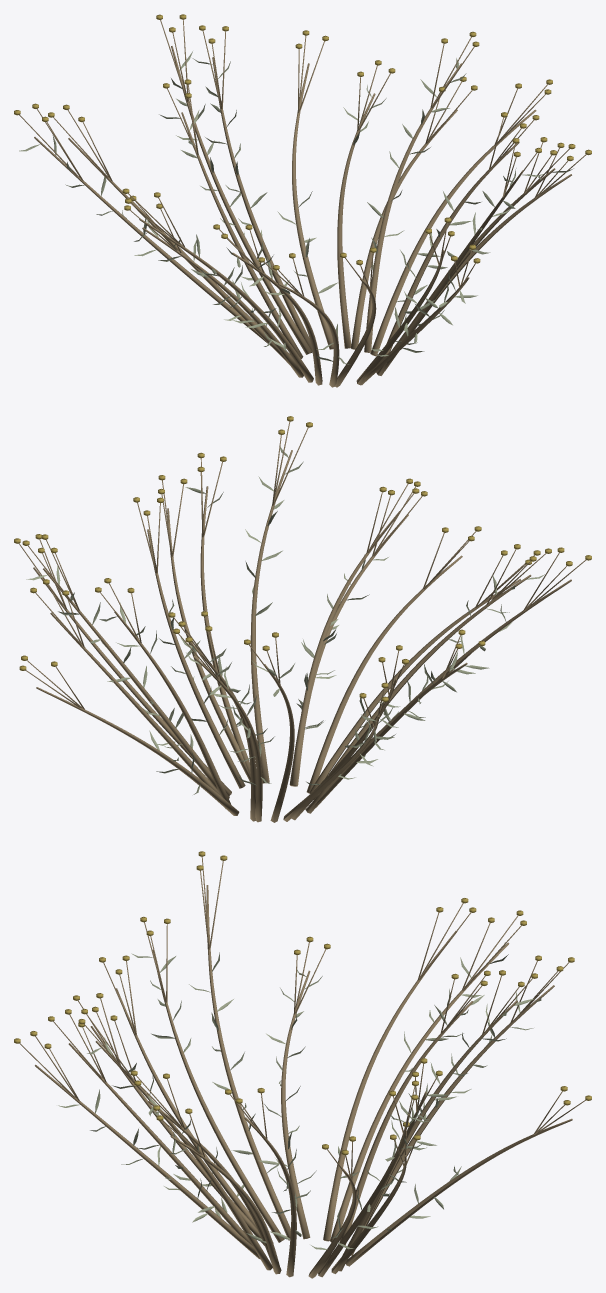
The model's file is Immortelle_2_Niveau1.fbx.
3 renders of one model, top to bottom at view 1: azimuth 30°, elevation 25°; view 2: azimuth 150°, elevation 25°; view 3: azimuth 270°, elevation 25°, orthographic. The views are drawn at different scales.
Visible parts, largest first — view 1: Immortelle_2_Niveau1_Jeu; view 2: Immortelle_2_Niveau1_Jeu; view 3: Immortelle_2_Niveau1_Jeu.
Part boxes in pixels (x1,y1,x2,y2): Immortelle_2_Niveau1_Jeu: (14,14,591,387); Immortelle_2_Niveau1_Jeu: (14,416,591,822); Immortelle_2_Niveau1_Jeu: (14,851,591,1278).
Bounding box in the file's own units: 59.72 × 31.91 × 58.7.
